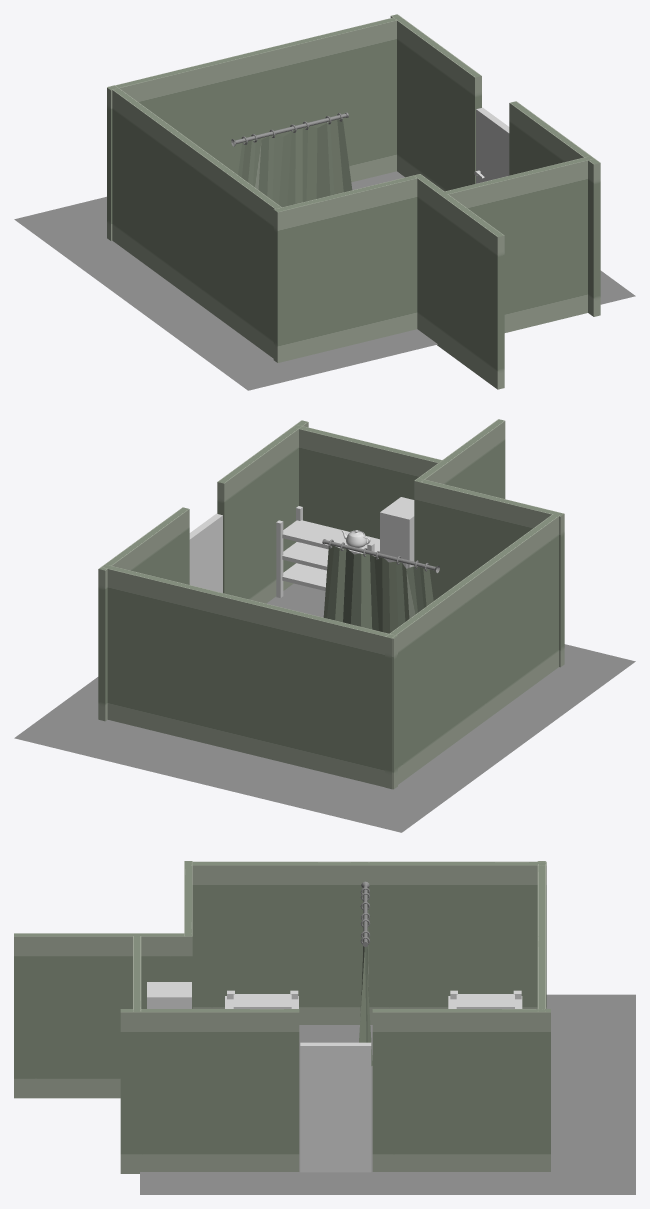
The model's file is testjes.FBX.
The picture shows the model from 3 angles, top to bottom: view 1: azimuth 30°, elevation 25°; view 2: azimuth 150°, elevation 25°; view 3: azimuth 270°, elevation 25°; orthographic projection. The views are drawn at different scales.
Visible parts, largest first — view 1: Box002, Plane001, Box008, Box001, Box004, Box003, Box005, Box007, Box009, Object, Box006, Box031 (+1 smaller); view 2: Plane001, Box009, Box008, Box005, Box003, Box006, Box002, Box001, Object, Box007, Box004, Box031 (+6 smaller); view 3: Box006, Box007, Plane001, Box003, Box005, Box004, Box031, Box023, Object, Box022, Box027, Box001 (+4 smaller).
Part boxes in pixels (x1,y1,x2,y2): Box002: (273,174,421,362); Plane001: (14,171,635,390); Box008: (253,16,398,182); Box001: (443,156,591,332); Box004: (414,174,504,389); Box003: (192,146,281,358); Box005: (108,85,198,298); Box007: (390,14,481,191); Box009: (107,52,256,240); Object: (238,119,352,207); Box006: (509,101,600,316); Box031: (476,107,509,183); Plane001: (14,583,635,832); Box009: (247,600,397,789); Box008: (103,565,251,753); Box005: (385,575,476,789); Box003: (469,514,559,727); Box006: (217,420,308,603); Box002: (414,479,564,667); Box001: (294,425,443,539); Object: (323,545,433,633); Box007: (98,507,189,721); Box004: (414,419,505,566); Box031: (189,513,222,592); Box006: (120,1009,299,1173); Box007: (372,1009,550,1171); Plane001: (140,994,635,1194); Box003: (191,861,369,1024); Box005: (368,861,546,1024); Box004: (14,933,192,1098); Box031: (300,1042,371,1172); Box023: (147,982,191,1008); Object: (359,895,372,1065); Box022: (233,994,291,1008); Box027: (456,994,514,1008); Box001: (133,936,141,1011).
Size of the model in its own units: 290 by 109 by 380.
3 materials, 1 textured.
